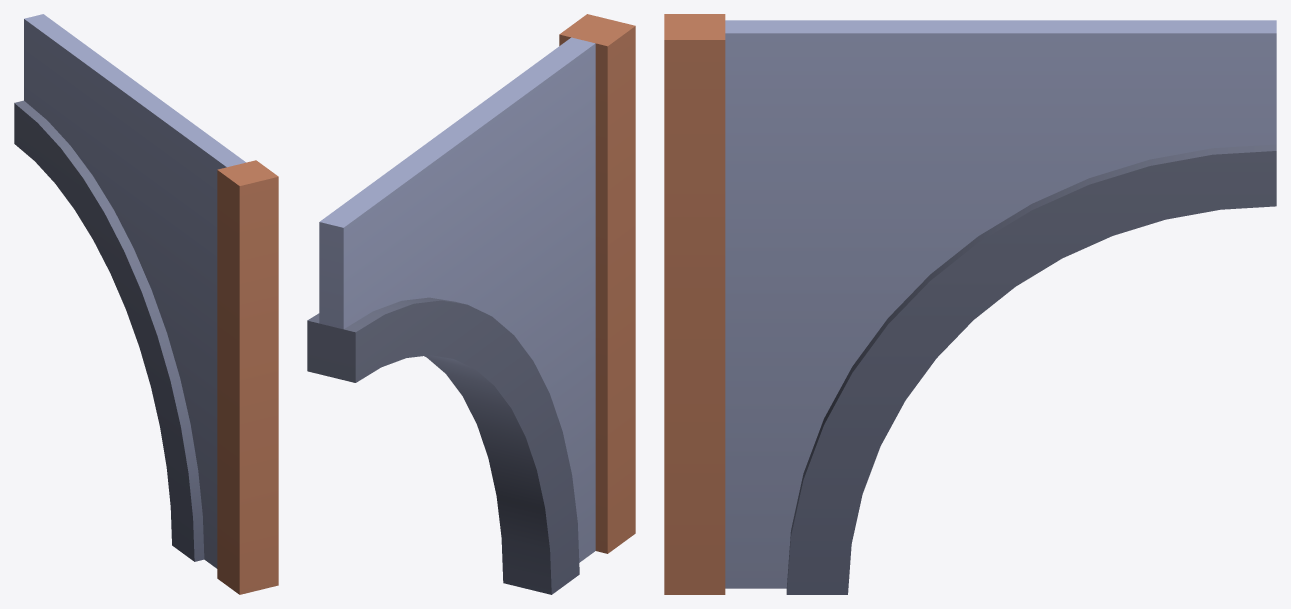
Rendered from wall-arch-top.glb.
The picture shows the model from 3 angles, left to right: view 1: azimuth 30°, elevation 25°; view 2: azimuth 150°, elevation 25°; view 3: azimuth 270°, elevation 25°; orthographic projection. The views are drawn at different scales.
Parts seen in each view (by area): view 1: wall-arch-top; view 2: wall-arch-top; view 3: wall-arch-top.
Boxes of the visible parts, x1,y1,x2,y2 form: wall-arch-top: (14,14,278,594); wall-arch-top: (307,14,635,594); wall-arch-top: (664,14,1276,594).
Bounding box in the file's own units: 0.1 × 1 × 1.
1 material, 1 textured.
